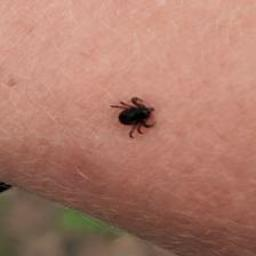Rhipicephalus sanguineus: (109, 97, 155, 139)
